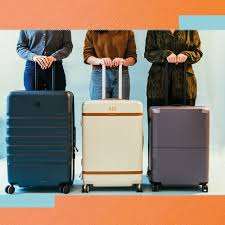suitcase: (5, 57, 77, 194), (79, 59, 145, 193), (149, 57, 212, 194)
